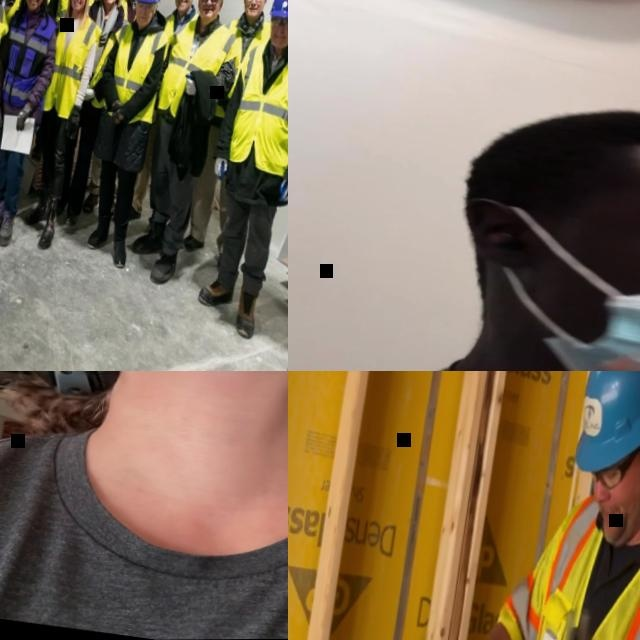Hardhat: (571, 371, 640, 483), (269, 0, 288, 22)
Mask: (442, 198, 640, 371)
NO-Hardhat: (483, 88, 640, 197)
NO-Mask: (601, 500, 640, 547), (199, 6, 219, 23), (270, 33, 288, 51), (135, 12, 152, 28), (174, 0, 191, 14), (246, 5, 262, 19), (26, 0, 43, 12), (70, 0, 86, 12), (102, 0, 119, 7)
NO-Safety Vest: (0, 389, 288, 640)
Person: (288, 42, 640, 371), (0, 371, 288, 640), (431, 371, 640, 640), (125, 0, 255, 292), (187, 0, 288, 344), (73, 0, 179, 271), (178, 0, 281, 274), (20, 0, 110, 254), (56, 0, 135, 236), (19, 0, 113, 194), (0, 0, 71, 251), (126, 0, 205, 222), (83, 0, 158, 220), (0, 0, 49, 189), (0, 0, 35, 214)
Safety Vest: (463, 478, 640, 640), (157, 15, 247, 128), (226, 31, 288, 179), (102, 20, 172, 130), (207, 14, 274, 125), (43, 14, 105, 124), (0, 8, 60, 111), (87, 12, 133, 113), (160, 8, 200, 64), (46, 0, 104, 24), (0, 0, 25, 22), (118, 0, 139, 25), (13, 0, 60, 8)
